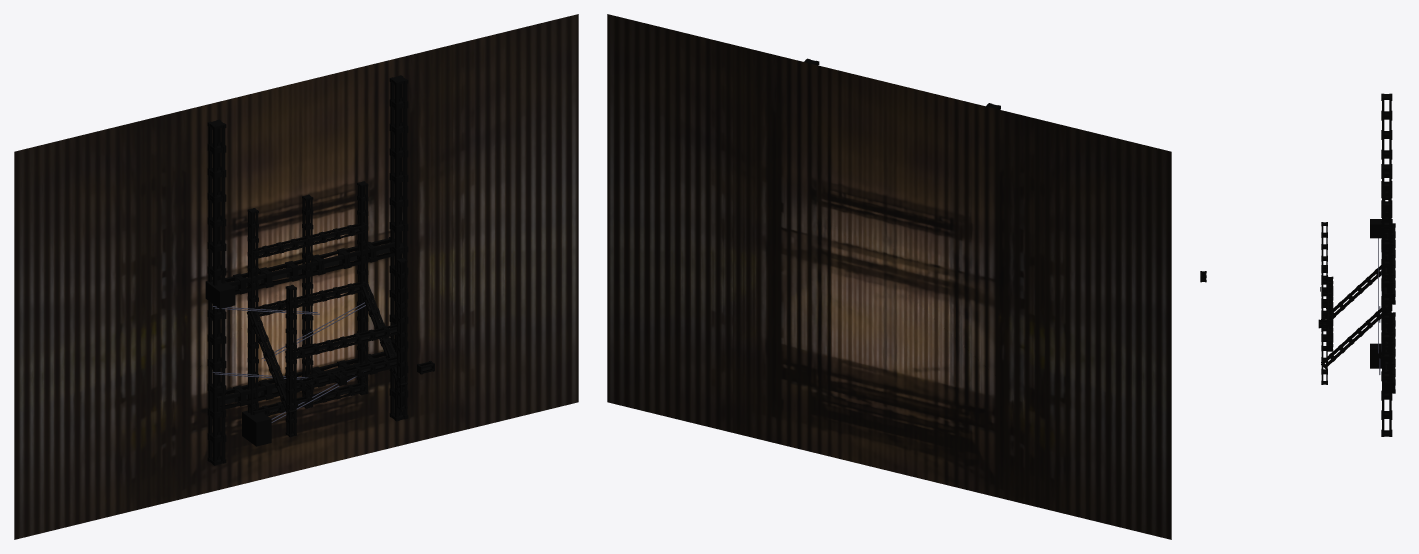
The model's file is contact.glb.
3 renders of one model, left to right at view 1: azimuth 30°, elevation 25°; view 2: azimuth 150°, elevation 25°; view 3: azimuth 270°, elevation 25°, orthographic. The views are drawn at different scales.
Visible parts, largest first — view 1: Plane.007, Plane.014, Plane.011, Plane.006, Plane.005, Cube.001, Cube; view 2: Plane.007; view 3: Plane.014, Plane.006, Plane.005, Plane.011, Cube.001.
Boxes of the visible parts, bbox=[...] form: Plane.007: bbox=[14, 14, 578, 539]; Plane.014: bbox=[207, 75, 408, 465]; Plane.011: bbox=[247, 181, 368, 416]; Plane.006: bbox=[285, 257, 407, 437]; Plane.005: bbox=[246, 281, 407, 415]; Cube.001: bbox=[242, 410, 271, 446]; Cube: bbox=[205, 278, 235, 308]; Plane.007: bbox=[607, 14, 1171, 539]; Plane.014: bbox=[1381, 93, 1395, 436]; Plane.006: bbox=[1318, 222, 1333, 384]; Plane.005: bbox=[1321, 265, 1389, 368]; Plane.011: bbox=[1384, 190, 1389, 371]; Cube.001: bbox=[1370, 343, 1381, 368].
Bounding box in the file's own units: 173 × 114 × 68.63.
15 materials, 5 textured.
